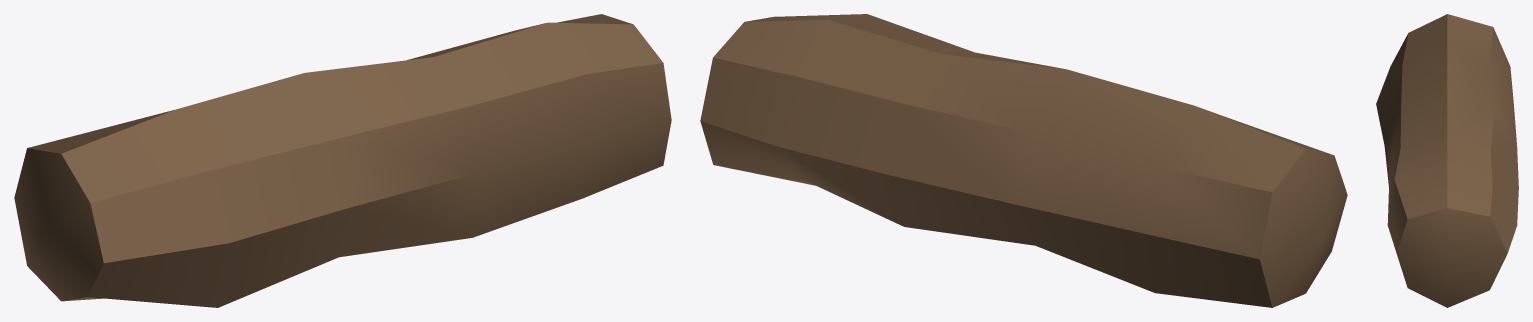
The model's file is sunflower_seed_cake.glb.
The picture shows the model from 3 angles, left to right: view 1: azimuth 30°, elevation 25°; view 2: azimuth 150°, elevation 25°; view 3: azimuth 270°, elevation 25°; orthographic projection. The views are drawn at different scales.
Parts seen in each view (by area): view 1: sunflower_seed_cake; view 2: sunflower_seed_cake; view 3: sunflower_seed_cake.
Boxes of the visible parts, box(x1,y1,x2,y2) form: sunflower_seed_cake: box(14, 14, 671, 307); sunflower_seed_cake: box(700, 14, 1347, 307); sunflower_seed_cake: box(1376, 14, 1518, 307).
Size of the model in its own units: 0.04 by 0.012 by 0.012.
